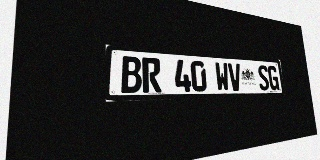0: (190, 60, 207, 92)
4: (174, 59, 192, 92)
B: (121, 56, 142, 93)
G: (267, 65, 279, 90)
R: (142, 57, 161, 93)
S: (257, 65, 270, 90)
V: (228, 63, 242, 91)
W: (214, 62, 230, 91)
